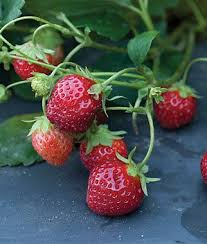ripe: (43, 73, 102, 135), (85, 165, 144, 218), (29, 118, 75, 168), (152, 83, 197, 131), (80, 135, 128, 175), (12, 46, 51, 79), (41, 38, 67, 67), (201, 150, 205, 184)
unripe: (30, 74, 53, 97)
